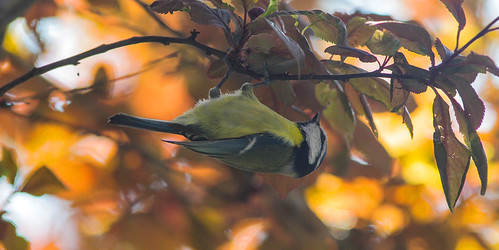animal: (112, 61, 346, 195)
vegetation: (1, 1, 495, 243)
